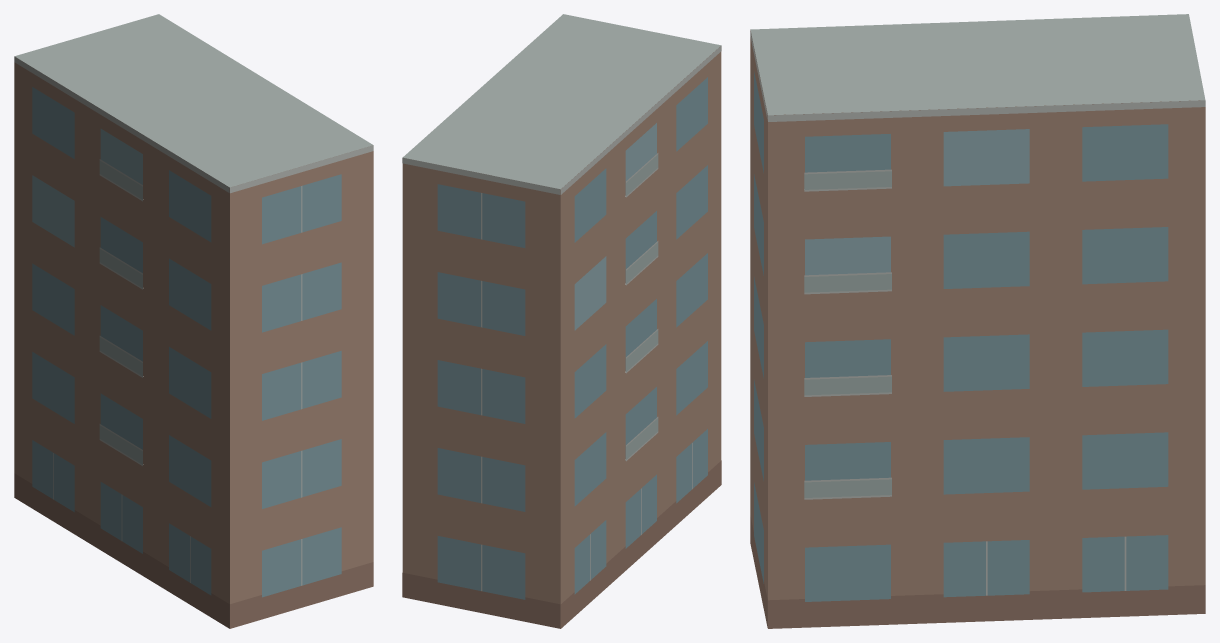
Rendered from survey-upis-32750743.glb.
3 renders of one model, left to right at view 1: azimuth 30°, elevation 25°; view 2: azimuth 150°, elevation 25°; view 3: azimuth 270°, elevation 25°, orthographic. The views are drawn at different scales.
Visible parts, largest first — view 1: survey-upis-32750743.tmp; view 2: survey-upis-32750743.tmp; view 3: survey-upis-32750743.tmp.
Boxes of the visible parts, left/top/right/bottom form: survey-upis-32750743.tmp: left=14, top=14, right=373, bottom=628; survey-upis-32750743.tmp: left=402, top=14, right=721, bottom=628; survey-upis-32750743.tmp: left=750, top=14, right=1205, bottom=628.
Bounding box in the file's own units: 7.8 × 18.4 × 14.79.
